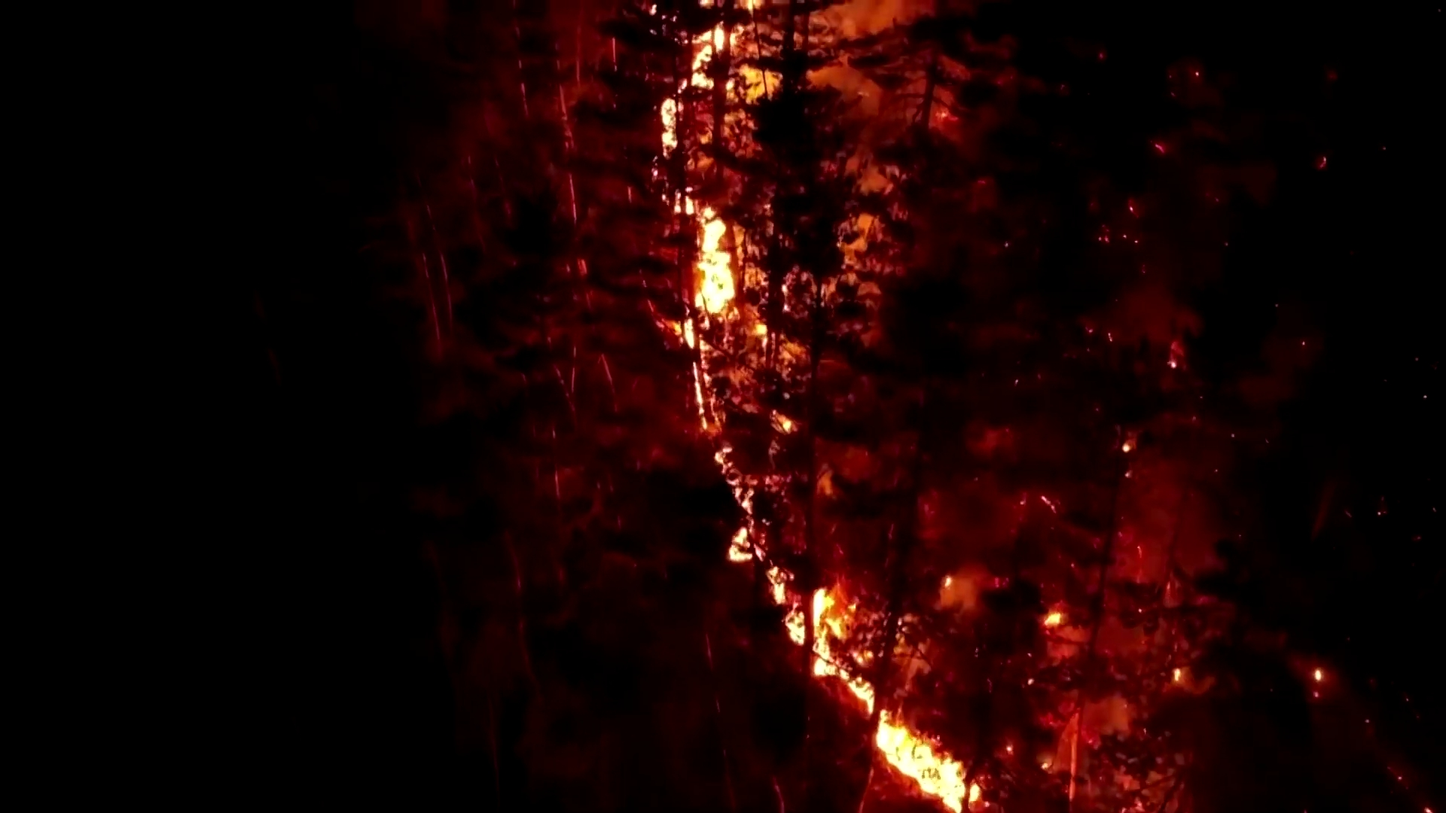forest_fire: (874, 712, 981, 812), (673, 187, 737, 350), (660, 23, 734, 156), (808, 640, 875, 712), (784, 589, 853, 645), (728, 482, 766, 563), (692, 361, 718, 429), (766, 565, 788, 603), (715, 445, 737, 477)
